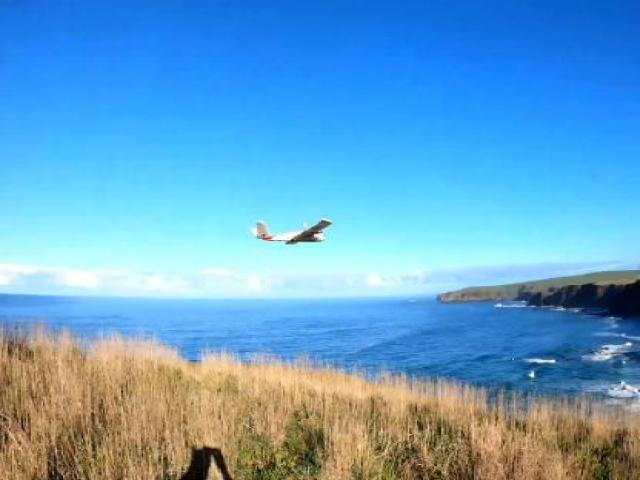uav: (250, 211, 332, 248)
